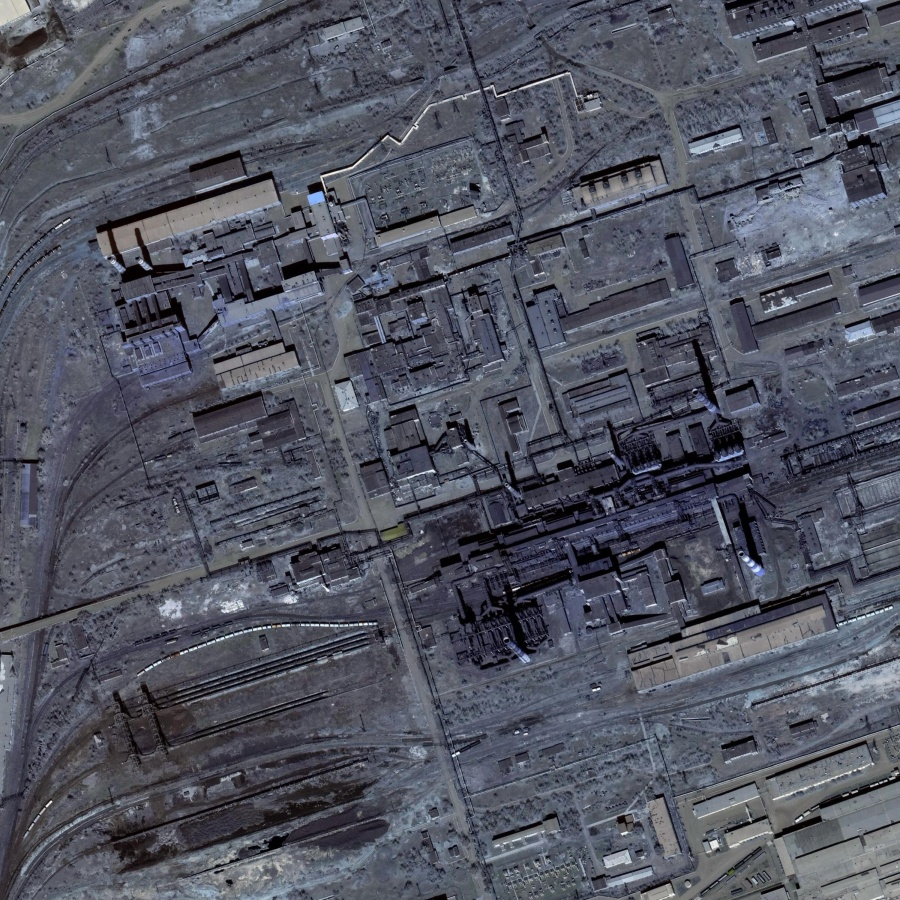PowerPlant: (433, 376, 785, 670)
